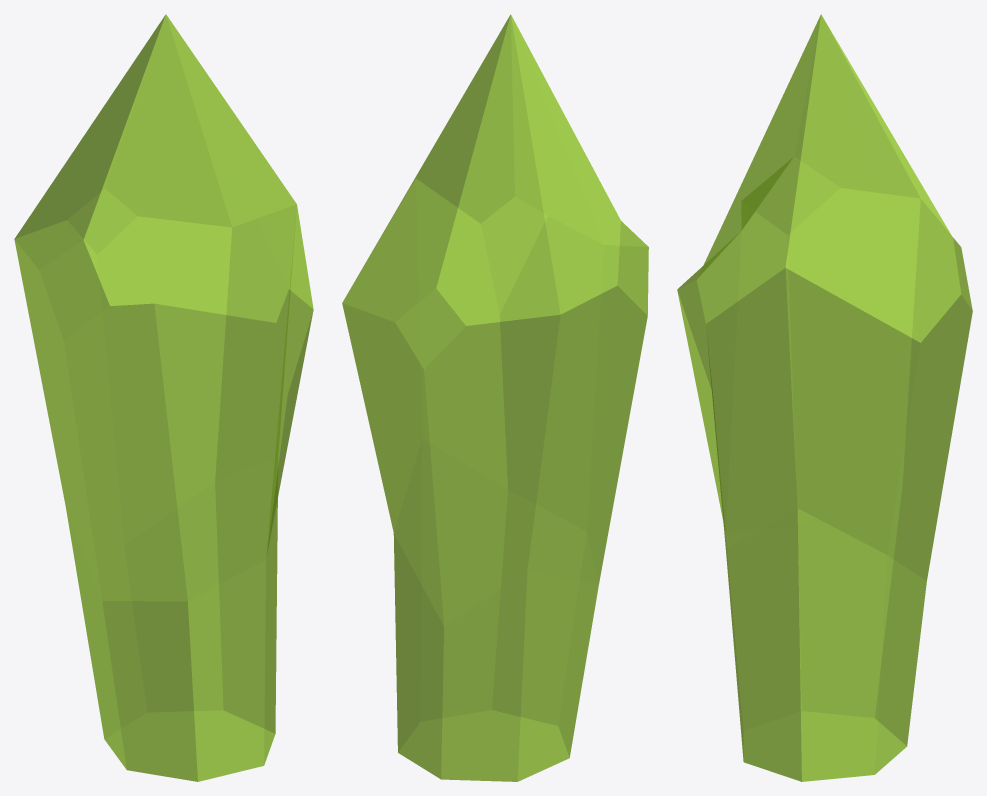
File: otros_objetos 4.fbx
3 views of the same model, side by side, from view 1: azimuth 30°, elevation 25°; view 2: azimuth 150°, elevation 25°; view 3: azimuth 270°, elevation 25° (orthographic). The views are drawn at different scales.
Parts seen in each view (by area): view 1: cristal2; view 2: cristal2; view 3: cristal2.
Part boxes in pixels (x1,y1,x2,y2): cristal2: (14, 14, 313, 781); cristal2: (342, 14, 648, 781); cristal2: (677, 14, 972, 781).
Bounding box in the file's own units: 77.35 × 230 × 85.69.
